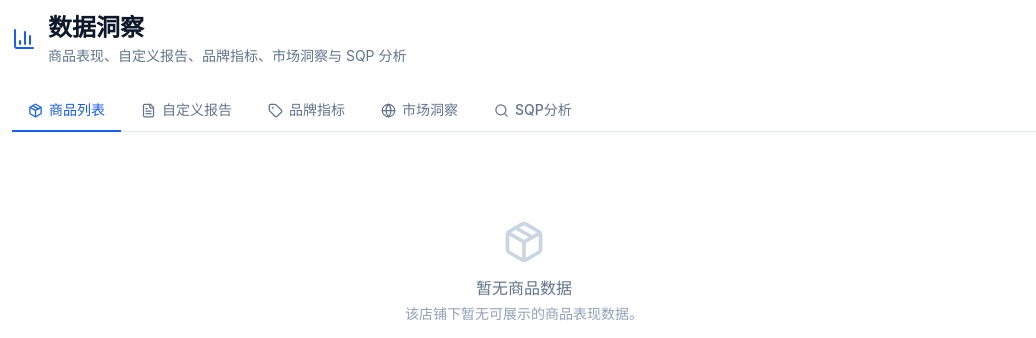
Test: DataInsightsPage empty-states (Req 30.8) › renders the market-insights empty-state when there are no reports
Click the button "市场洞察" at (420, 111), box [365,90,474,132]
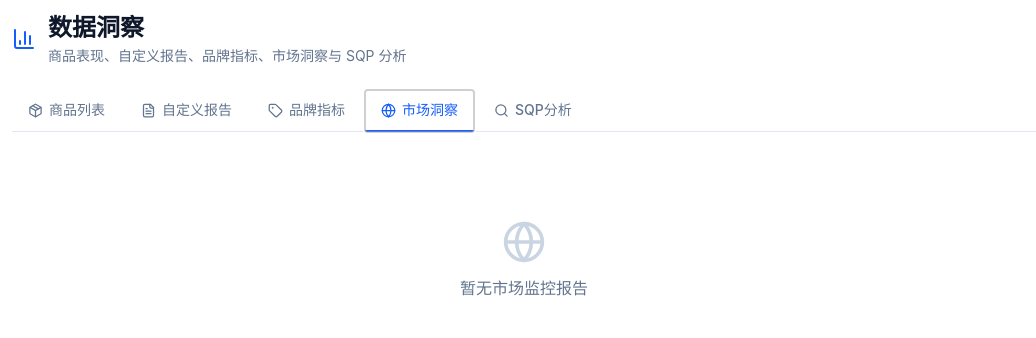
expect the text "暂无市场监控报告" is shown: met, box [460,276,588,300]
